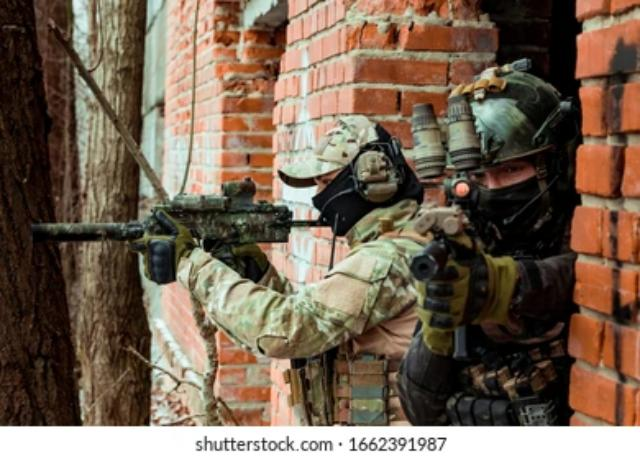other: (398, 75, 570, 422), (281, 126, 413, 419)
